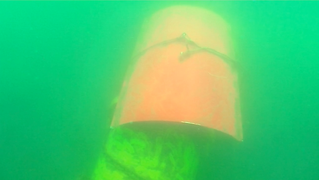leak: (110, 6, 241, 141)
pipe: (89, 124, 217, 180)
